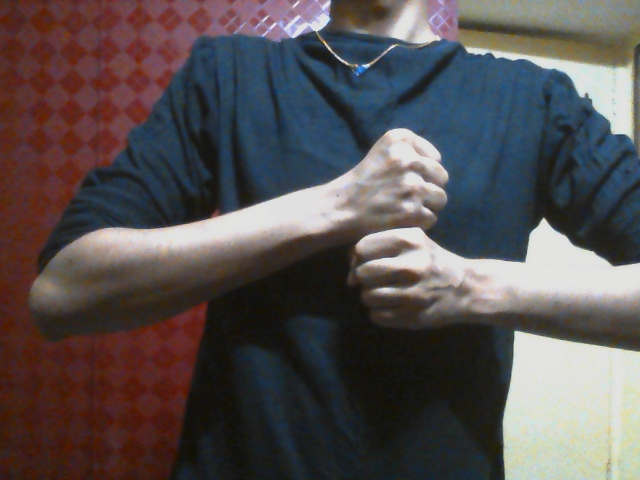G: (342, 126, 468, 332)
